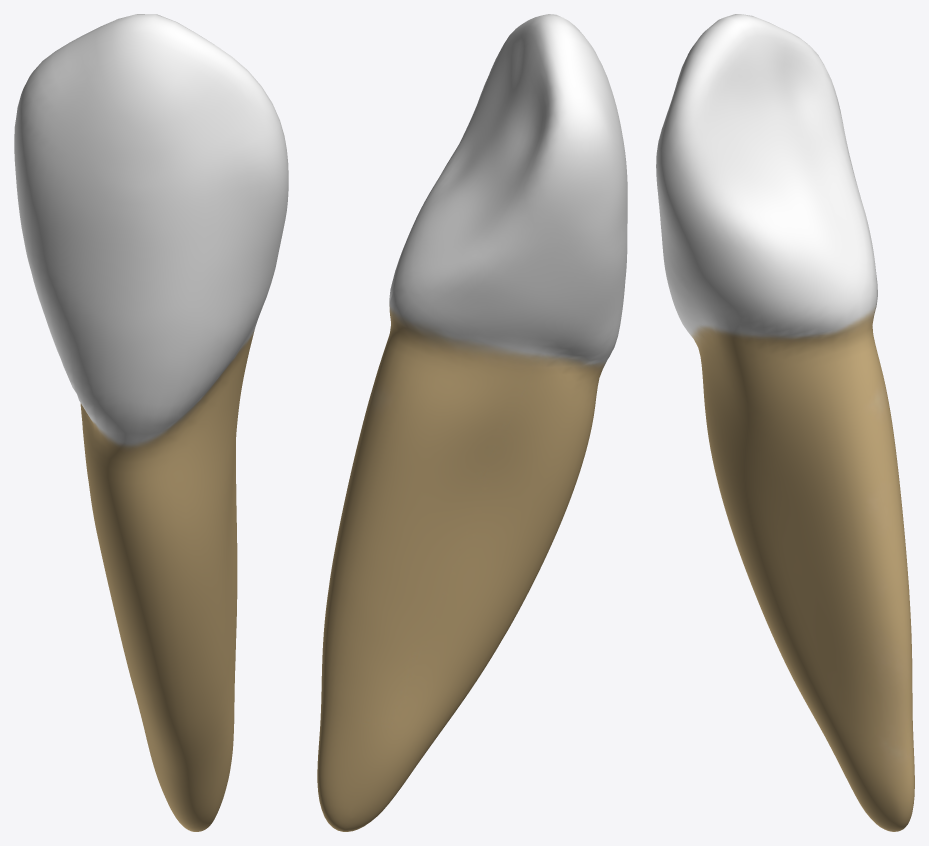
The picture shows the model from 3 angles, left to right: view 1: azimuth 30°, elevation 25°; view 2: azimuth 150°, elevation 25°; view 3: azimuth 270°, elevation 25°; orthographic projection. The views are drawn at different scales.
Visible parts, largest first — view 1: outer; view 2: outer; view 3: outer.
Part boxes in pixels (x1,y1,x2,y2): outer: [14, 14, 288, 831]; outer: [317, 14, 627, 831]; outer: [656, 14, 914, 831].
Size of the model in its own units: 3.09 by 9.93 by 3.09.
2 materials, 1 textured.
